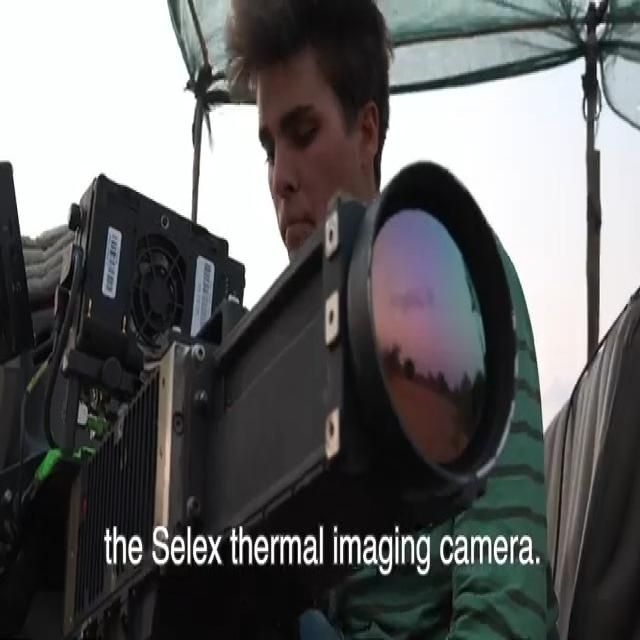device: (2, 193, 530, 516)
human: (208, 0, 393, 205), (4, 141, 20, 149)
